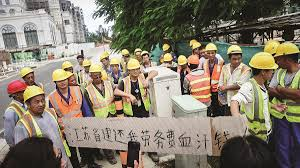helmet: (250, 52, 279, 70), (278, 41, 299, 56), (23, 87, 47, 100), (6, 80, 28, 92), (265, 40, 280, 54), (52, 69, 68, 81), (227, 44, 243, 56), (21, 65, 35, 76), (175, 54, 187, 65), (188, 37, 200, 48), (99, 50, 110, 61), (189, 53, 200, 64), (127, 59, 139, 69), (161, 42, 171, 52), (62, 60, 72, 68), (205, 43, 215, 51), (108, 58, 119, 65), (90, 66, 101, 72), (163, 52, 171, 60), (120, 49, 128, 56), (83, 58, 90, 65)
vest: (23, 118, 72, 159), (241, 87, 271, 139), (53, 93, 85, 134), (122, 78, 153, 116), (275, 75, 300, 121), (88, 82, 113, 116), (188, 72, 211, 99), (210, 61, 222, 91), (9, 104, 25, 120)
